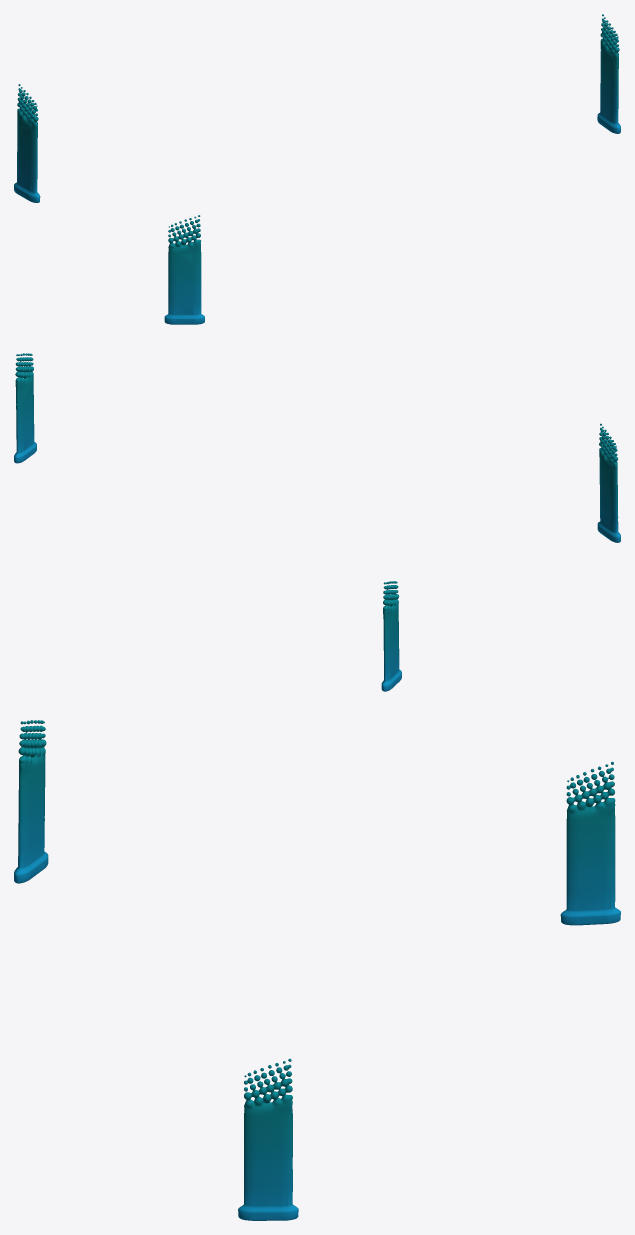
Rendered from mesh_stand_blue.glb.
The picture shows the model from 3 angles, top to bottom: view 1: azimuth 30°, elevation 25°; view 2: azimuth 150°, elevation 25°; view 3: azimuth 270°, elevation 25°; orthographic projection. The views are drawn at different scales.
Parts seen in each view (by area): view 1: mesh_stand_blue; view 2: mesh_stand_blue; view 3: mesh_stand_blue.
Part boxes in pixels (x1,y1,x2,y2): mesh_stand_blue: (14,14,620,324); mesh_stand_blue: (14,353,620,691); mesh_stand_blue: (14,720,620,1220).
Bounding box in the file's own units: 12.14 × 3.1 × 8.16.
Materials: 1 (1 with a texture image).
